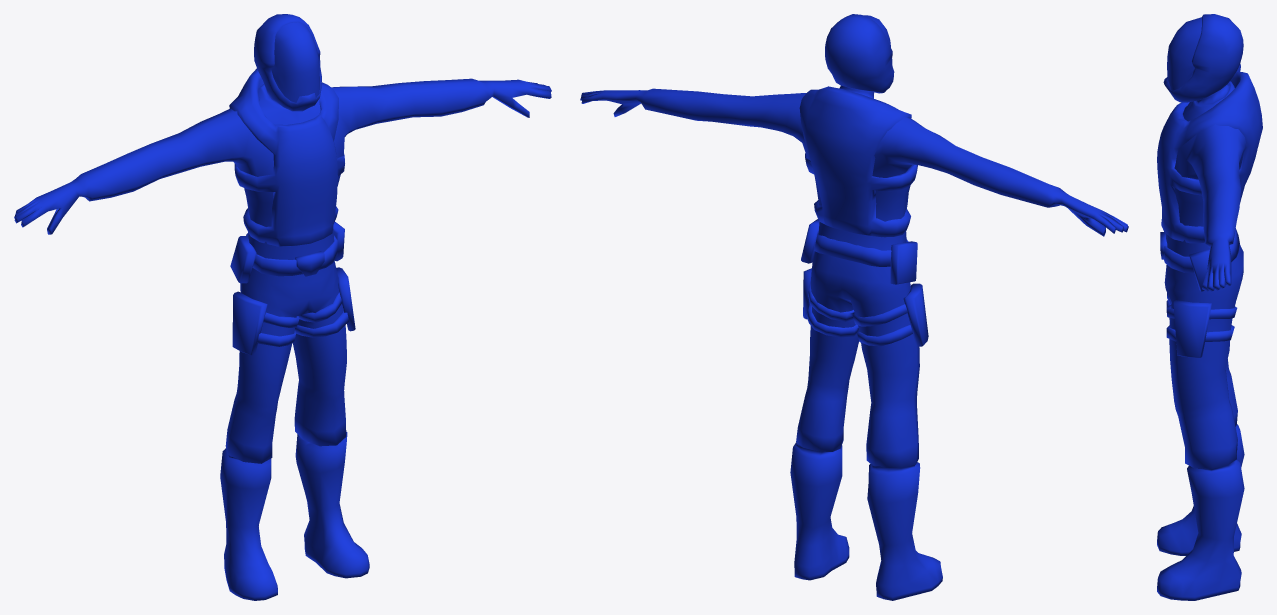
File: hgbvmnbgmhbvm.FBX
3 views of the same model, side by side, from view 1: azimuth 30°, elevation 25°; view 2: azimuth 150°, elevation 25°; view 3: azimuth 270°, elevation 25° (orthographic). The views are drawn at different scales.
Visible parts, largest first — view 1: SpaceMarine; view 2: SpaceMarine; view 3: SpaceMarine.
Part boxes in pixels (x1,y1,x2,y2): SpaceMarine: [14, 14, 551, 600]; SpaceMarine: [580, 14, 1128, 600]; SpaceMarine: [1157, 14, 1262, 600].
Bounding box in the file's own units: 186 × 184 × 32.02.
